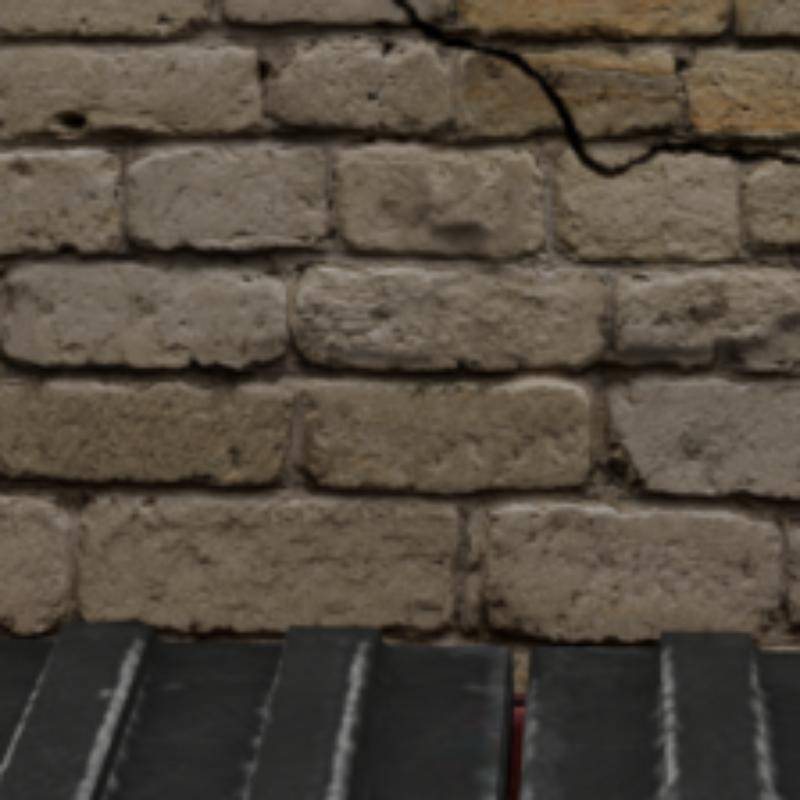pothole: (393, 0, 796, 175)
